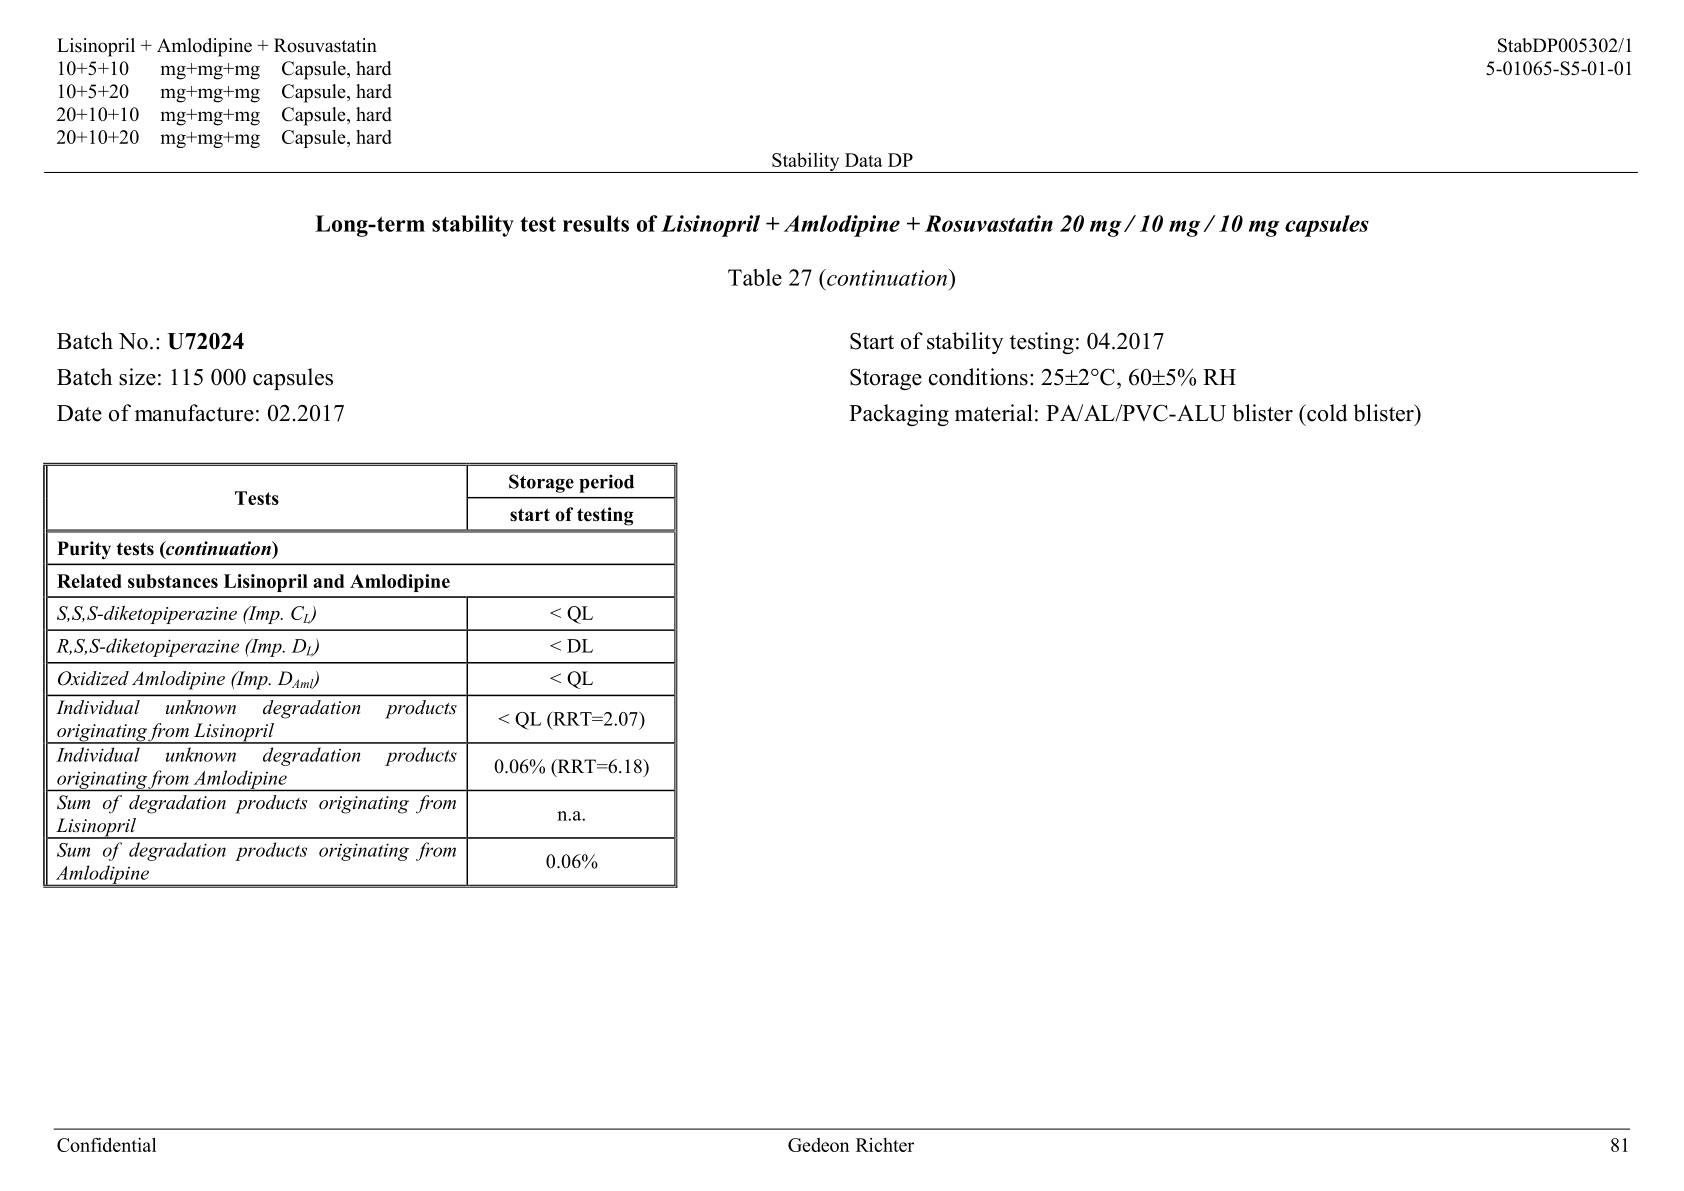merged_cells: (41, 461, 679, 889)
